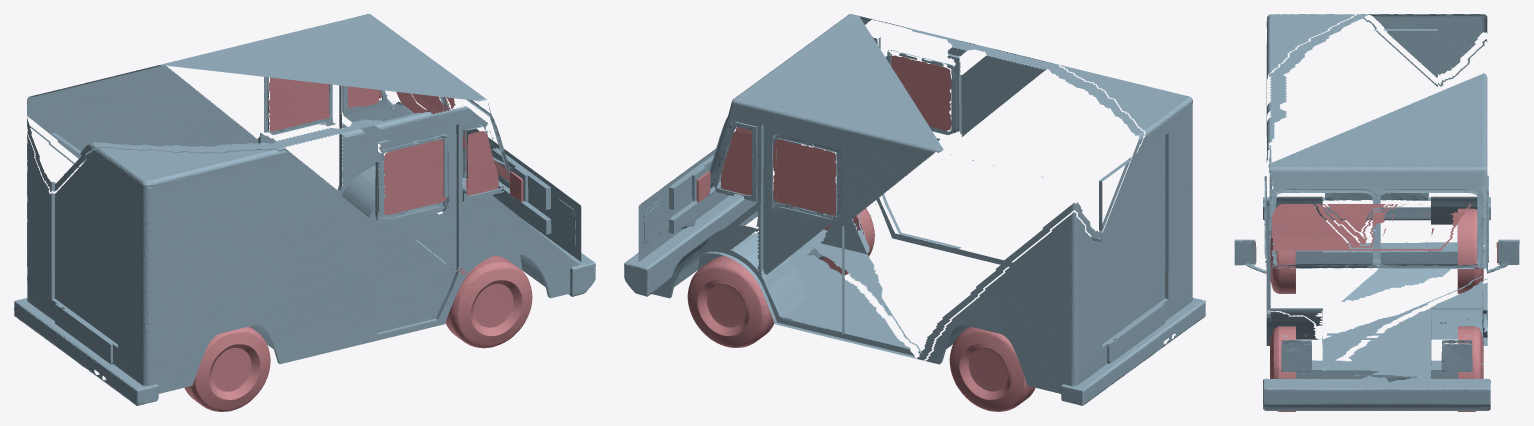
File: tk_both.glb
3 views of the same model, side by side, from view 1: azimuth 30°, elevation 25°; view 2: azimuth 150°, elevation 25°; view 3: azimuth 270°, elevation 25° (orthographic). The views are drawn at different scales.
Parts seen in each view (by area): view 1: part0, part6, part2, part4, part3, part8, part9, part7; view 2: part0, part5, part1, part3, part4, part7, part6; view 3: part0, part9, part1, part2, part5, part6.
Part boxes in pixels (box(x1,y1,x2,y2)): part0: box(14, 14, 595, 405); part6: box(445, 255, 532, 348); part2: box(184, 326, 270, 411); part4: box(384, 139, 446, 214); part3: box(268, 77, 330, 131); part8: box(465, 131, 498, 195); part9: box(396, 92, 509, 182); part7: box(346, 86, 379, 107); part0: box(624, 14, 1205, 405); part5: box(687, 255, 774, 347); part1: box(949, 327, 1035, 411); part3: box(773, 139, 836, 215); part4: box(891, 55, 951, 130); part7: box(721, 131, 752, 195); part6: box(789, 197, 874, 274); part0: box(1234, 14, 1519, 410); part9: box(1271, 204, 1471, 252); part1: box(1457, 208, 1483, 293); part2: box(1270, 236, 1295, 293); part5: box(1457, 326, 1483, 411); part6: box(1270, 326, 1295, 411).
Size of the model in its own units: 0.9983 by 0.5304 by 0.5806.
